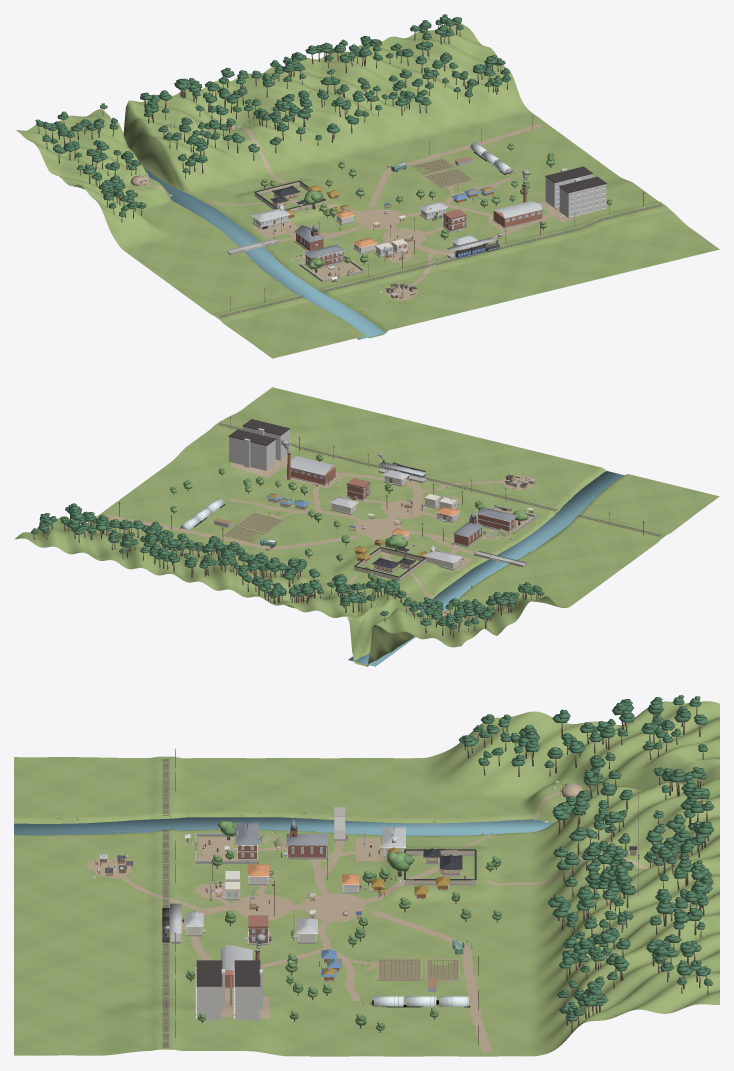
File: daehan.glb
The picture shows the model from 3 angles, top to bottom: view 1: azimuth 30°, elevation 25°; view 2: azimuth 150°, elevation 25°; view 3: azimuth 270°, elevation 25°; orthographic projection. The views are drawn at different scales.
Parts seen in each view (by area): view 1: static_grass, static_pine, static_dirt, static_water, static_bark, ix_apateu_1, static_leaf2, static_zinc, static_white, static_rail, static_paddy, static_slate; view 2: static_grass, static_pine, static_dirt, static_water, static_bark, ix_apateu_1, static_zinc, static_leaf2, static_paddy, static_rail, static_slate, static_tile (+3 smaller); view 3: static_grass, static_pine, static_dirt, static_water, static_bark, ix_apateu_1, static_zinc, static_leaf2, static_leaf, static_paddy, static_slate, static_tile (+2 smaller).
Boxes of the visible parts, <box> form: static_grass: <box>15,23,719,358</box>; static_pine: <box>35,14,510,216</box>; static_dirt: <box>130,118,582,299</box>; static_water: <box>143,166,385,339</box>; static_bark: <box>38,24,662,317</box>; ix_apateu_1: <box>545,166,606,218</box>; static_leaf2: <box>260,143,612,268</box>; static_zinc: <box>251,201,542,295</box>; static_white: <box>230,116,608,297</box>; static_rail: <box>219,204,661,316</box>; static_paddy: <box>413,159,471,186</box>; static_slate: <box>294,223,345,258</box>; static_grass: <box>14,387,719,666</box>; static_pine: <box>31,503,544,629</box>; static_dirt: <box>106,457,536,616</box>; static_water: <box>348,471,624,666</box>; static_bark: <box>33,416,660,637</box>; ix_apateu_1: <box>228,419,290,470</box>; static_zinc: <box>287,456,536,562</box>; static_leaf2: <box>170,453,528,580</box>; static_paddy: <box>224,513,282,541</box>; static_rail: <box>219,423,661,536</box>; static_slate: <box>453,507,517,537</box>; static_tile: <box>354,547,425,577</box>; static_grass: <box>14,701,719,1056</box>; static_pine: <box>458,695,714,1021</box>; static_dirt: <box>86,783,649,1051</box>; static_water: <box>14,817,553,835</box>; static_bark: <box>109,705,708,1047</box>; ix_apateu_1: <box>195,960,262,1020</box>; static_zinc: <box>99,827,405,970</box>; static_leaf2: <box>186,820,501,1030</box>; static_leaf: <box>188,822,501,1027</box>; static_paddy: <box>378,960,458,979</box>; static_slate: <box>236,819,327,845</box>; static_tile: <box>404,848,476,880</box>.
Bounding box in the file's own units: 260 × 37 × 260.
72 materials, 6 textured.
